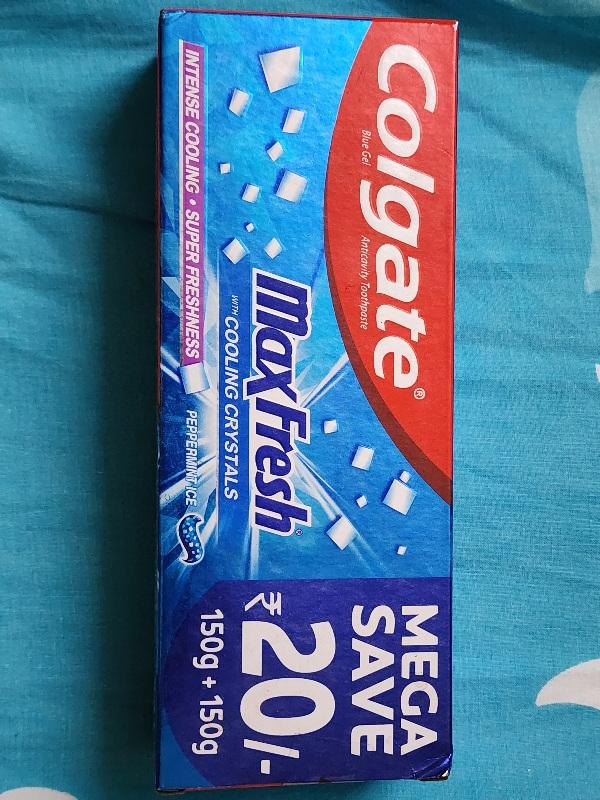Colgate: (157, 14, 456, 783)
